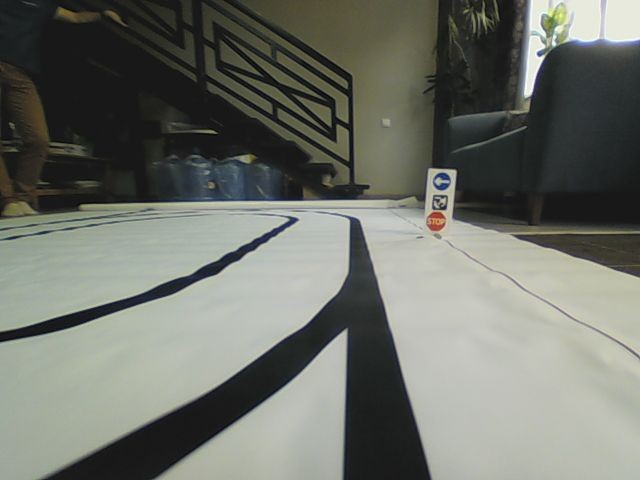Stop: (425, 211, 447, 232)
